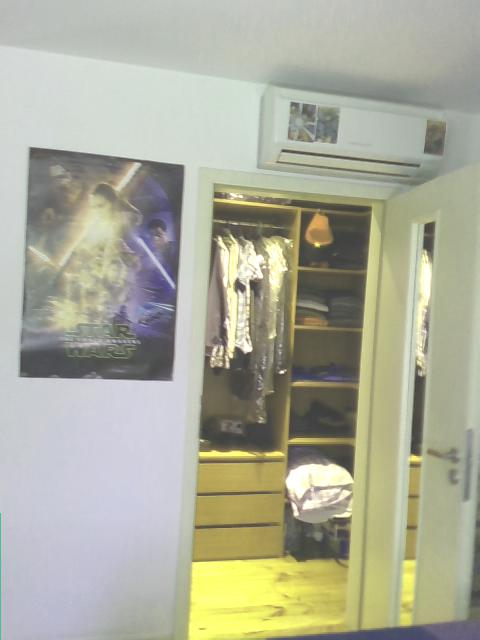open_door: (172, 166, 404, 639)
